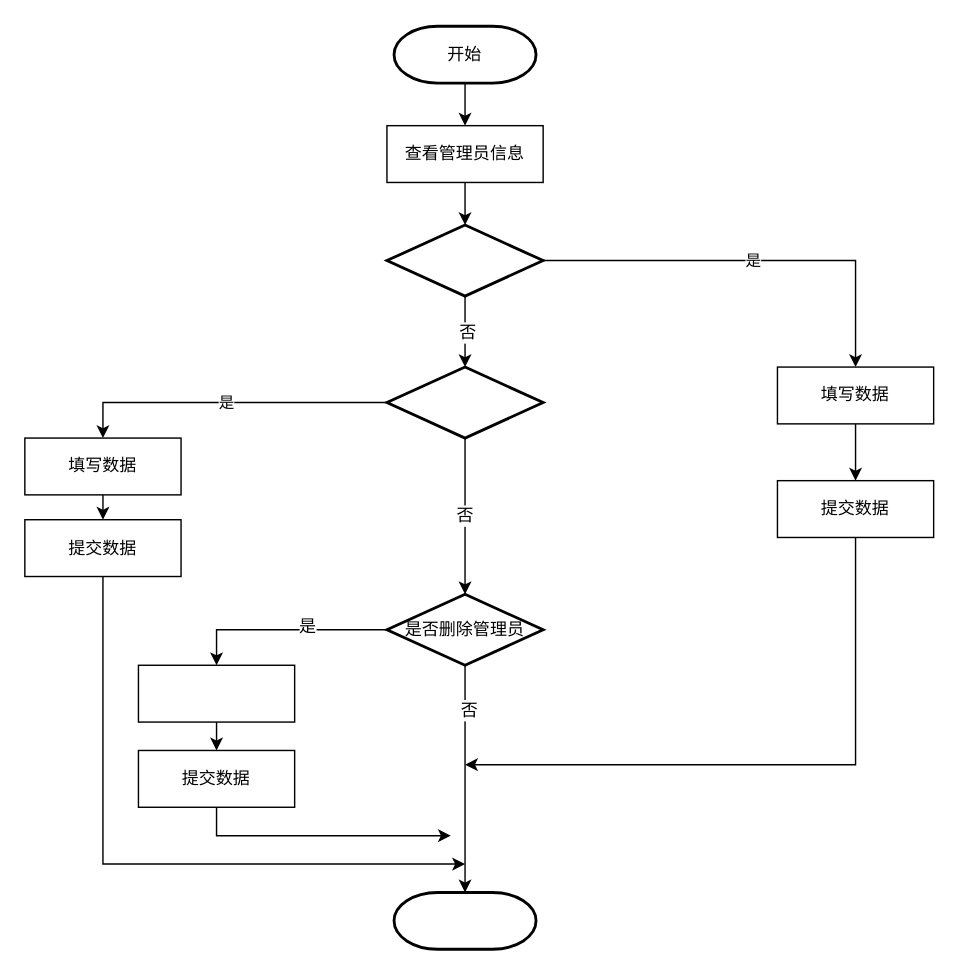
This 959x974 diagram has some shape labels left out. The centre of each missing label's shape, as x and y in pixels:
是否修改信息: the point at 464,402
是否添加管理员: the point at 464,260
结束: the point at 464,920
选中管理员: the point at 216,693
